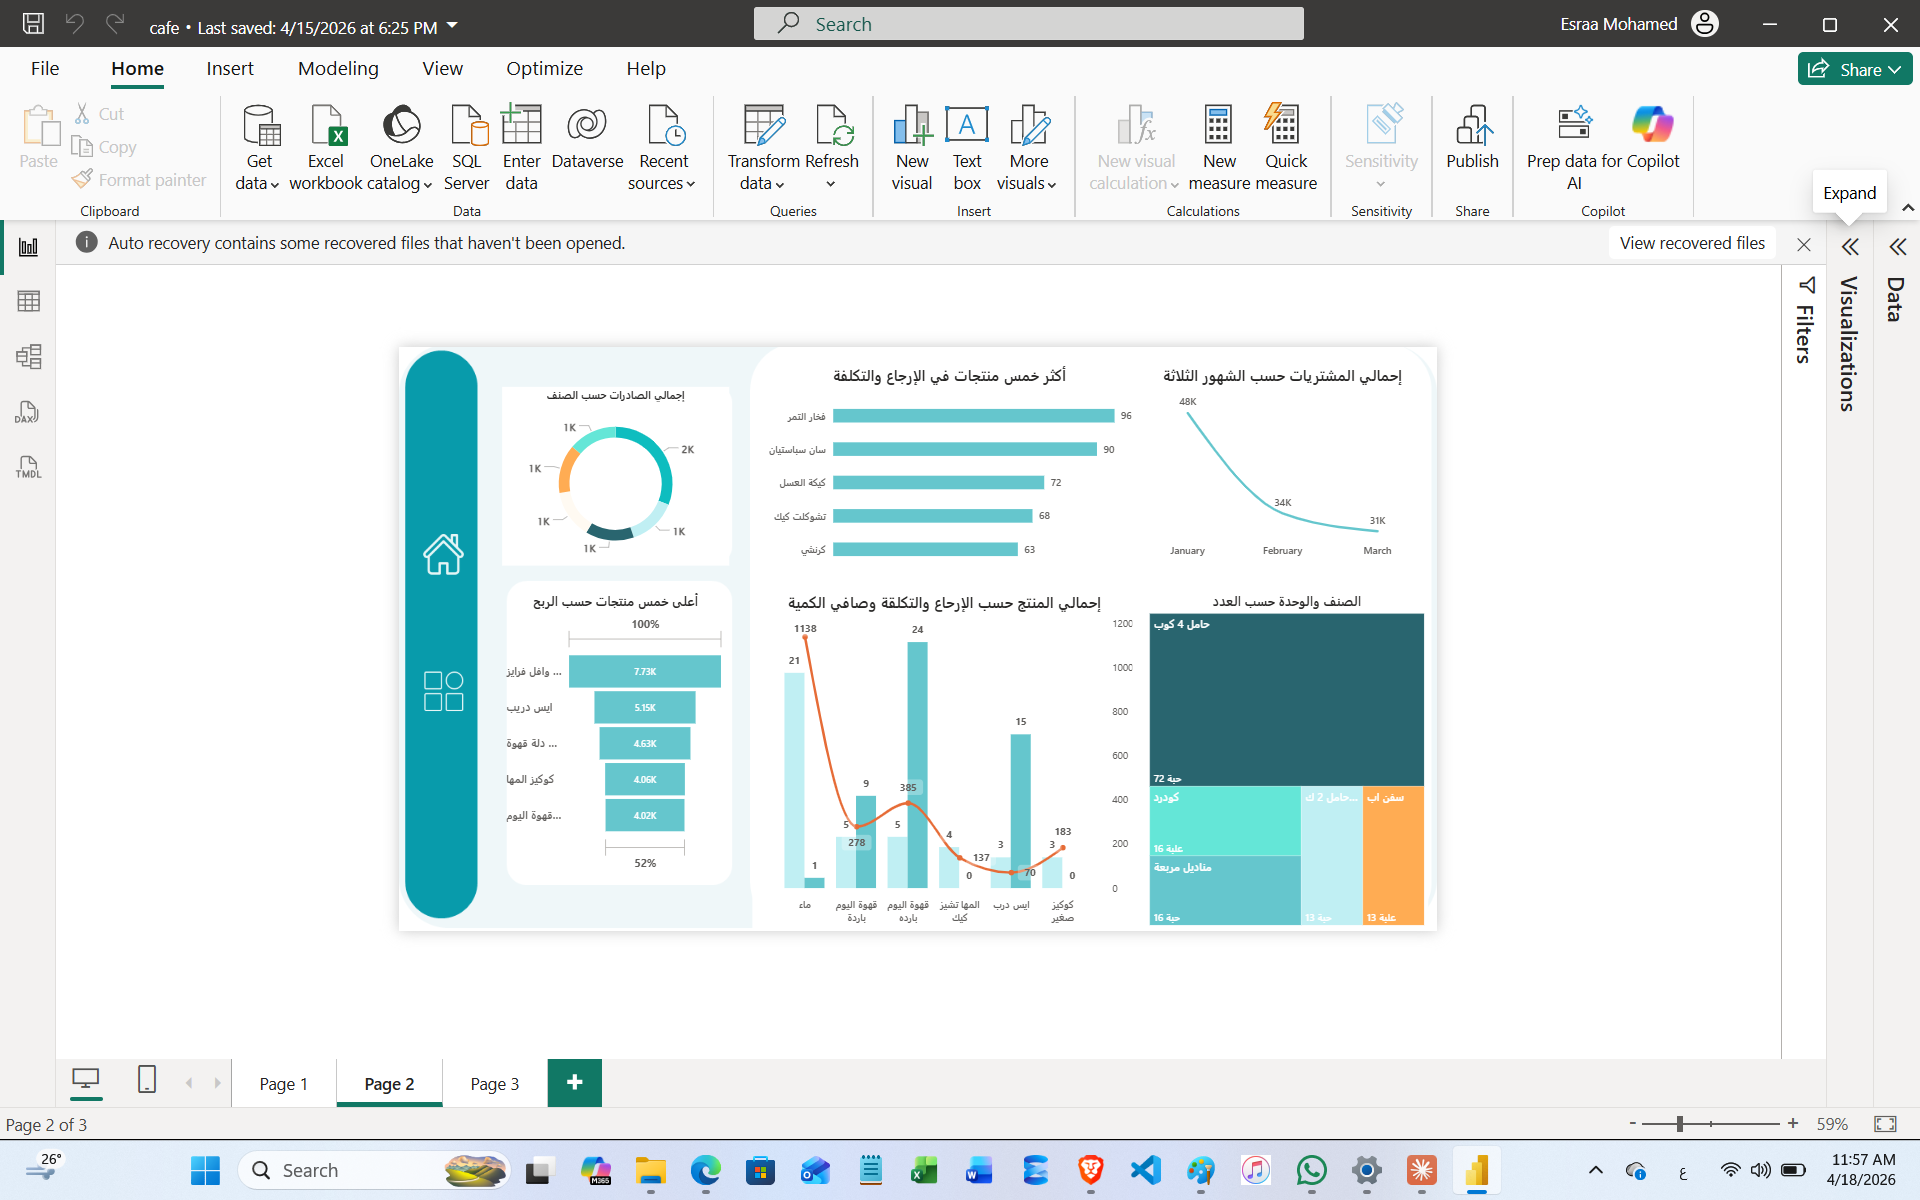

The page's visual inventory and layout, read from the dashboard file:
{"tool":"powerbi","page":{"name":"Page 2","canvas":[1280,720],"ordinal":1},"visuals":[{"type":"barChart","title":"أكثر خمس منتجات في الإرجاع والتكلفة ","fields":{"Category":["المنتج Dim.المنتج"],"Y":["المبيعات حسب المنتج Report (المبيعات حسب المنتج Report).إجمالي الإرجاع والتكلفة"]},"box":[450,22.1,458.8,258.8],"z":0},{"type":"lineClusteredColumnComboChart","title":"إحمالي المنتج حسب الإرحاع والتكلقة وصافي الكمية ","fields":{"Category":["المنتج Dim.المنتج"],"Y":["الاصناف الموجودة بفرع الشوقية حتى 12/4/2026 (ورقة1).اجمالي كمية الإلغاء","المبيعات حسب المنتج Report (المبيعات حسب المنتج Report).إجمالي الإرجاع والتكلفة"],"Y2":["الاصناف الموجودة بفرع الشوقية حتى 12/4/2026 (ورقة1).إجمالي صافي الكمية"]},"box":[435.3,301.5,473.5,416.2],"z":1},{"type":"lineChart","title":"إحمالي المشتريات حسب الشهور الثلاثة ","fields":{"Category":["التاريخ Dim.التاريخ.Variation.Date Hierarchy.Month"],"Y":["المشتريات.إجمالي المشتريات"]},"box":[920.3,21.9,337.5,246.9],"z":2},{"type":"donutChart","title":"إجمالي الصادرات حسب الصنف","fields":{"Category":["مخزون المستودع.اسم الصنف"],"Y":["مخزون المستودع.إجمالي الصادرات"]},"box":[126.6,48.4,279.7,220.3],"z":3},{"type":"treemap","title":"الصنف والوحدة حسب العدد","fields":{"Details":["الاصناف الموجودة بفرع الشوقية حتى 12/4/2026 (ورقة1).الوحدة"],"Group":["الاصناف الموجودة بفرع الشوقية حتى 12/4/2026 (ورقة1).الصنف"],"Values":["Sum(الاصناف الموجودة بفرع الشوقية حتى 12/4/2026 (ورقة1).العدد)"]},"box":[920.6,301.5,348.5,416.2],"z":4},{"type":"funnel","title":"أعلى خمس منتجات حسب الربح","fields":{"Category":["المنتج Dim.المنتج"],"Y":["Sum(المبيعات حسب المنتج Report (المبيعات حسب المنتج Report).الربح)"]},"box":[126.6,301.6,279.7,351.6],"z":5},{"type":"image","box":[25,231.2,59.4,50],"z":6},{"type":"image","box":[25,400,59.4,48.4],"z":7}]}

Visuals, with their boxes on the page's 1280x720 design canvas (x1, y1, x2, y2). These are canvas units, not pixel positions in the 1920x1200 screenshot, which may show the page scaled, cropped or inside an application window:
"أكثر خمس منتجات في الإرجاع والتكلفة " barChart: (450,22,909,281)
"إحمالي المنتج حسب الإرحاع والتكلقة وصافي الكمية " lineClusteredColumnComboChart: (435,302,909,718)
"إحمالي المشتريات حسب الشهور الثلاثة " lineChart: (920,22,1258,269)
"إجمالي الصادرات حسب الصنف" donutChart: (127,48,406,269)
"الصنف والوحدة حسب العدد" treemap: (921,302,1269,718)
"أعلى خمس منتجات حسب الربح" funnel: (127,302,406,653)
image: (25,231,84,281)
image: (25,400,84,448)
